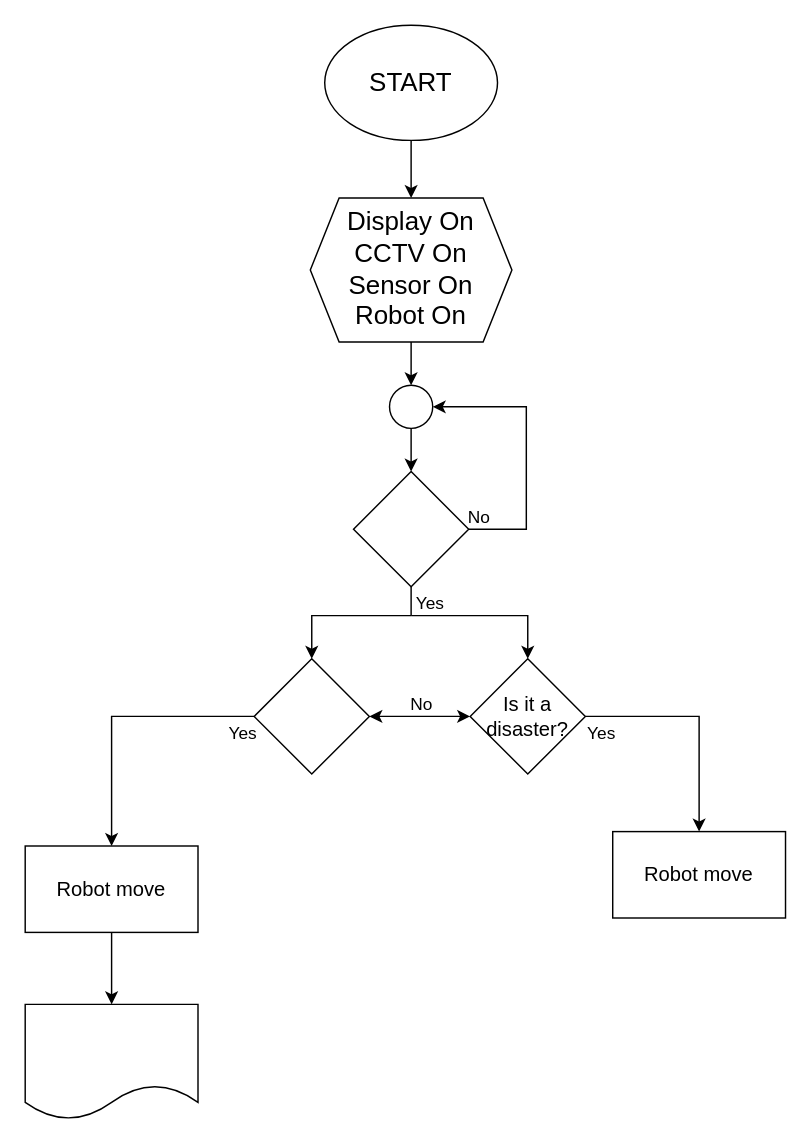
Image size: 811x1145. Some labels were removed from this diagram. The box of each missing label's shape, as (x1, y1, x2, y2) in pixels:
first aid Manual on display: (24, 1003, 198, 1120)
Has anyone fallen?: (253, 657, 369, 774)
issue?: (352, 470, 469, 587)
